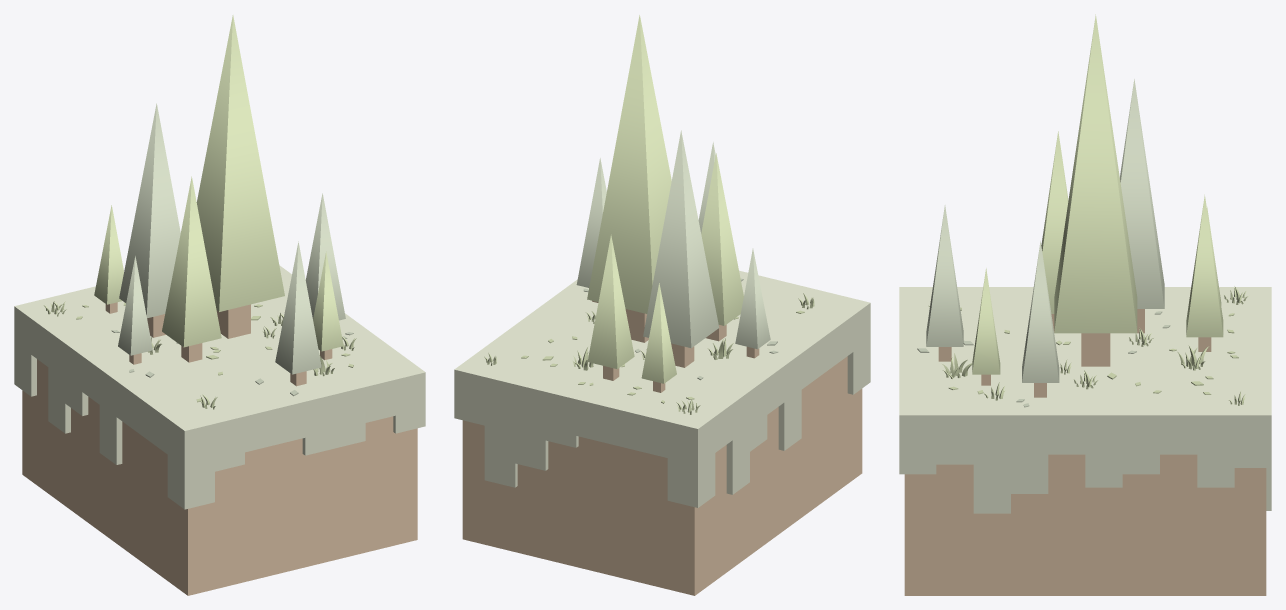
File: PlattformStartFour.dae
3 views of the same model, side by side, from view 1: azimuth 30°, elevation 25°; view 2: azimuth 150°, elevation 25°; view 3: azimuth 270°, elevation 25° (orthographic). The views are drawn at different scales.
Visible parts, largest first — view 1: Plattform-LightGreen, Plattform-Brown, Tree-Green, Tree-DarkGreen, Tree-Brown, Grass.001; view 2: Plattform-LightGreen, Plattform-Brown, Tree-Green, Tree-DarkGreen, Tree-Brown, Grass.001; view 3: Plattform-LightGreen, Plattform-Brown, Tree-Green, Tree-DarkGreen, Tree-Brown, Grass.001.
Boxes of the visible parts, left/top/right/bottom form: Plattform-LightGreen: left=14, top=265, right=425, bottom=509; Plattform-Brown: left=22, top=359, right=417, bottom=595; Tree-Green: left=94, top=15, right=343, bottom=351; Tree-DarkGreen: left=118, top=103, right=345, bottom=374; Tree-Brown: left=105, top=302, right=332, bottom=386; Grass.001: left=43, top=301, right=356, bottom=409; Plattform-LightGreen: left=454, top=270, right=870, bottom=507; Plattform-Brown: left=462, top=356, right=862, bottom=595; Tree-Green: left=587, top=15, right=743, bottom=383; Tree-DarkGreen: left=576, top=130, right=770, bottom=349; Tree-Brown: left=592, top=300, right=759, bottom=392; Grass.001: left=484, top=293, right=814, bottom=414; Plattform-LightGreen: left=899, top=287, right=1271, bottom=513; Plattform-Brown: left=904, top=454, right=1266, bottom=595; Tree-Green: left=972, top=14, right=1223, bottom=374; Tree-DarkGreen: left=926, top=79, right=1164, bottom=382; Tree-Brown: left=938, top=309, right=1211, bottom=397; Grass.001: left=928, top=286, right=1248, bottom=405.
Size of the model in its own units: 210 by 258 by 404.
